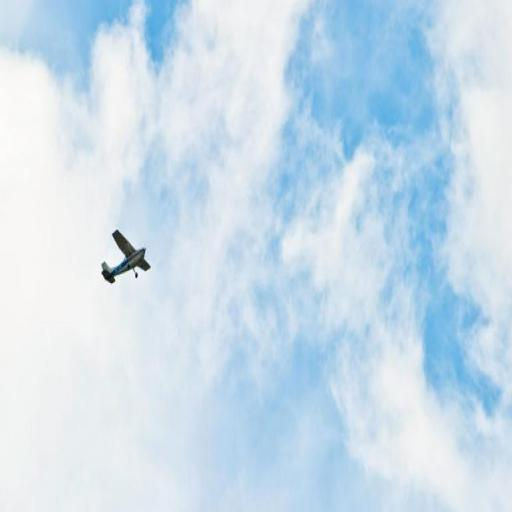aircraft: (102, 230, 152, 286)
